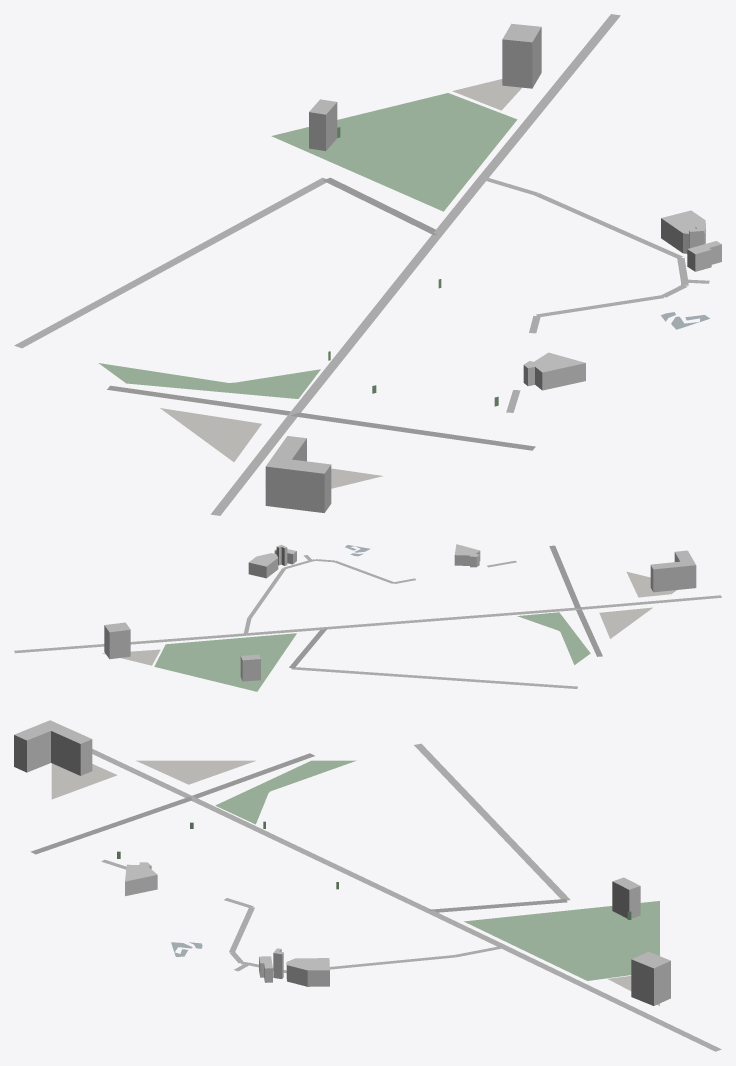
3 renders of one model, top to bottom at view 1: azimuth 30°, elevation 25°; view 2: azimuth 150°, elevation 25°; view 3: azimuth 270°, elevation 25°, orthographic. The views are drawn at different scales.
Size of the model in its own units: 629 by 37.64 by 582.
